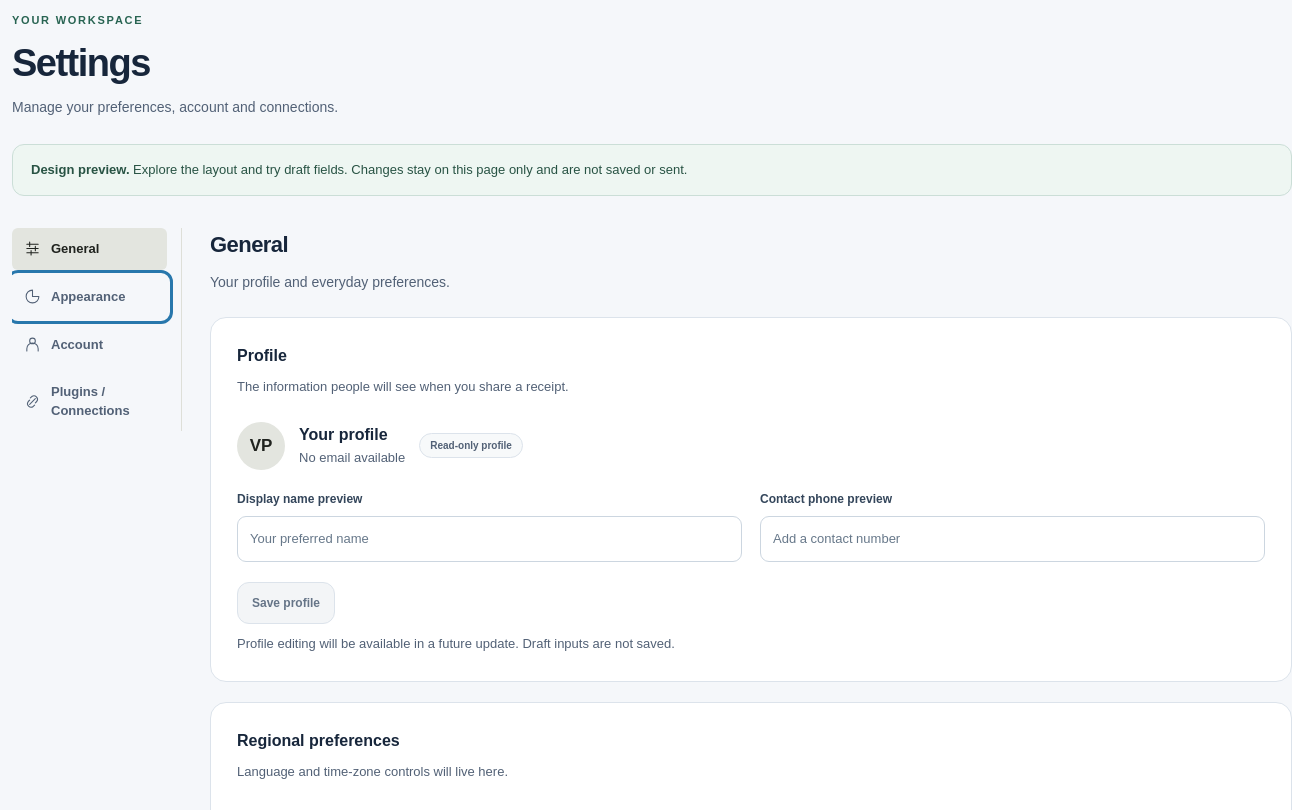
offers accessible local theme previews without global or storage changes
Click the button "Appearance": coordinates (90, 297) [12,276,167,318]
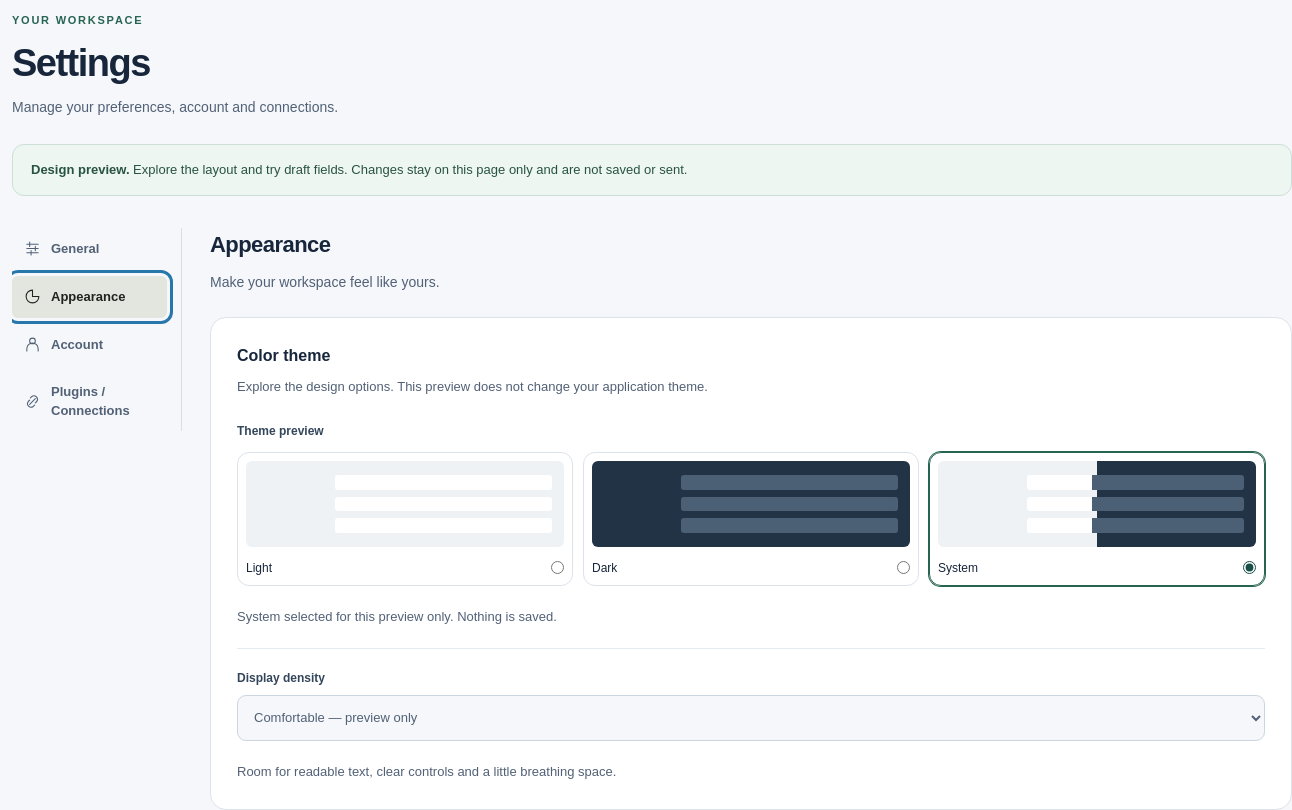
Check: the button "Appearance" is marked as current, box [12,276,167,318]
Click the radio button labelled "Dark": coordinates (904, 568) [897,561,910,574]
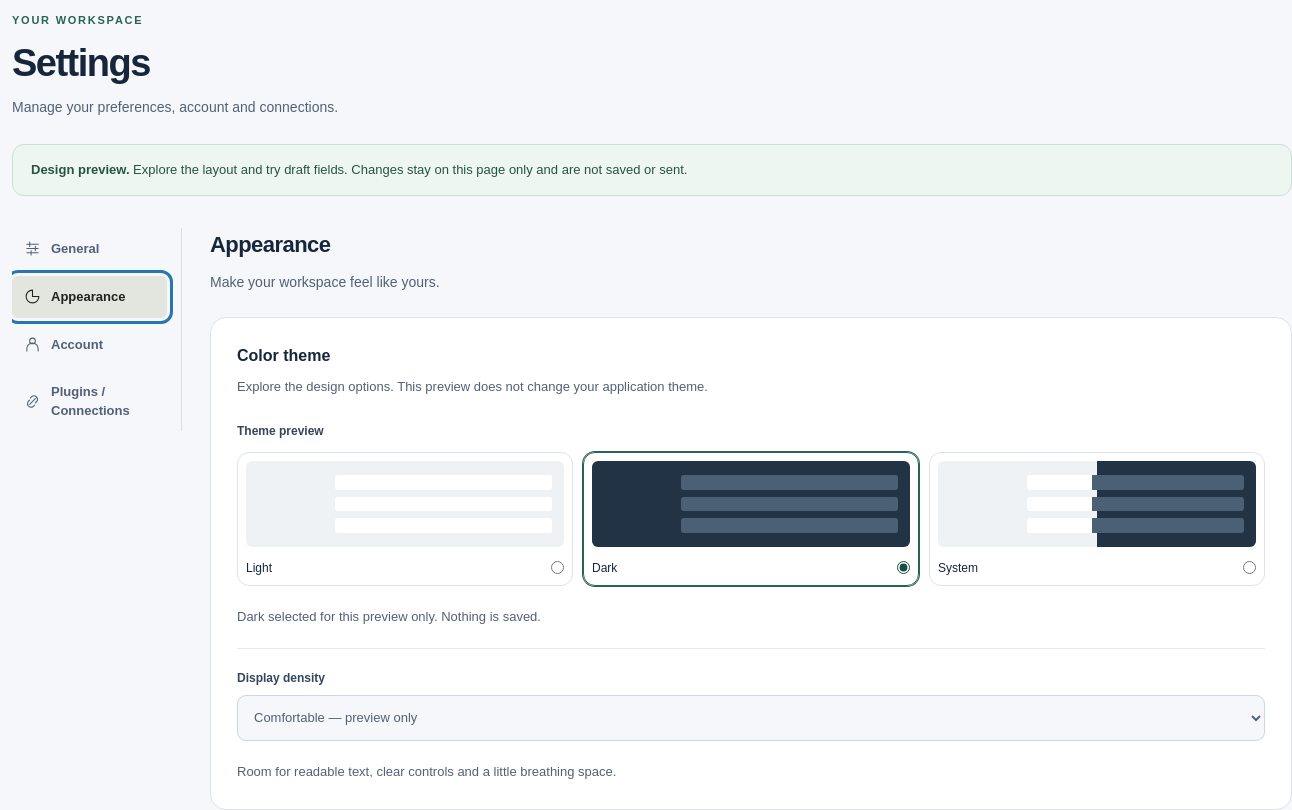
Check: the radio button labelled "Dark" is checked, box [897,561,910,574]
Check: the message shows "Dark selected for this preview only", box [237,609,541,624]
